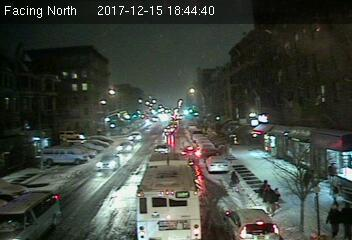bus: (136, 154, 203, 239)
car: (224, 207, 284, 240), (205, 156, 229, 173), (95, 154, 119, 170), (180, 147, 199, 158), (127, 131, 144, 142), (117, 142, 134, 152)
pedestrian: (325, 200, 342, 240), (341, 199, 352, 240), (229, 170, 243, 196)
truck: (1, 191, 67, 239)
